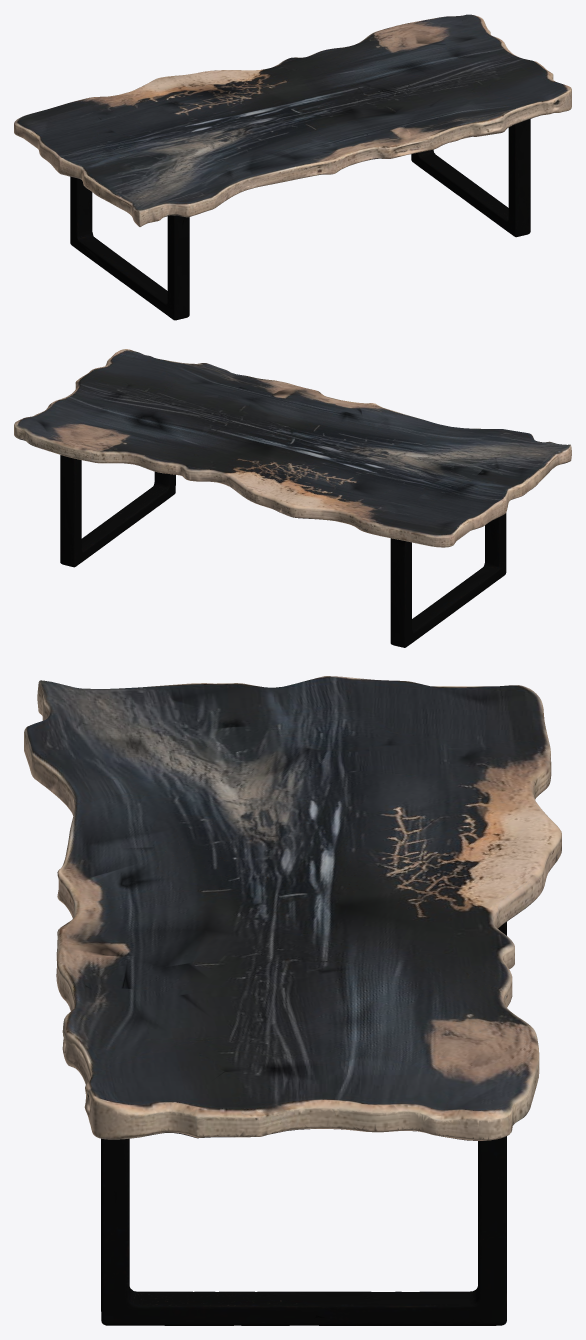
The model's file is coffee-table-top.glb.
3 renders of one model, top to bottom at view 1: azimuth 30°, elevation 25°; view 2: azimuth 150°, elevation 25°; view 3: azimuth 270°, elevation 25°, orthographic. The views are drawn at different scales.
Parts seen in each view (by area): view 1: node_0; view 2: node_0; view 3: node_0.
Part boxes in pixels (left/top/right/bottom): node_0: left=14, top=14, right=571, bottom=320; node_0: left=14, top=349, right=571, bottom=647; node_0: left=24, top=676, right=561, bottom=1325.
Bounding box in the file's own units: 1.07 × 0.3006 × 0.5539.
1 material, 1 textured.
